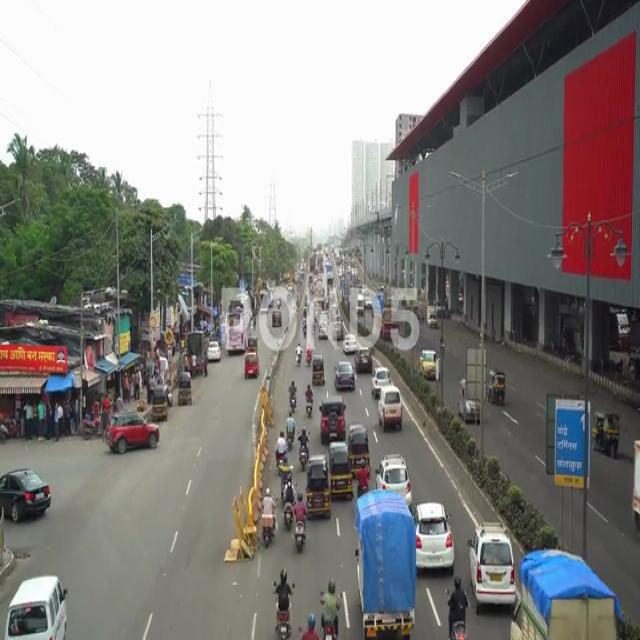car: (2, 571, 72, 640), (470, 523, 516, 610), (0, 462, 53, 523), (418, 495, 454, 584), (106, 413, 160, 463), (318, 396, 345, 440), (378, 387, 405, 427), (334, 361, 356, 393)
motorbike: (269, 562, 294, 640), (320, 579, 342, 640), (260, 484, 278, 548), (293, 491, 309, 556), (280, 470, 294, 531), (297, 427, 307, 470), (285, 411, 295, 452), (306, 384, 314, 420)
rikshaw: (307, 453, 331, 520), (592, 407, 620, 463), (331, 441, 351, 499), (487, 369, 507, 407)
truck: (520, 544, 616, 640), (355, 493, 415, 638)
